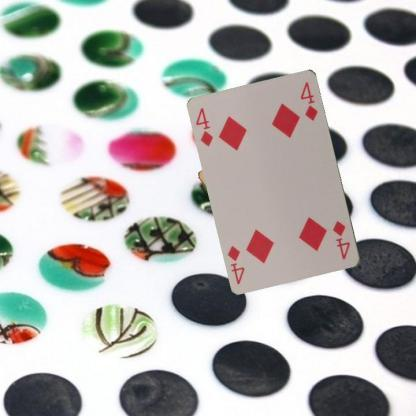4d: (330, 218, 352, 262), (193, 105, 215, 148)
